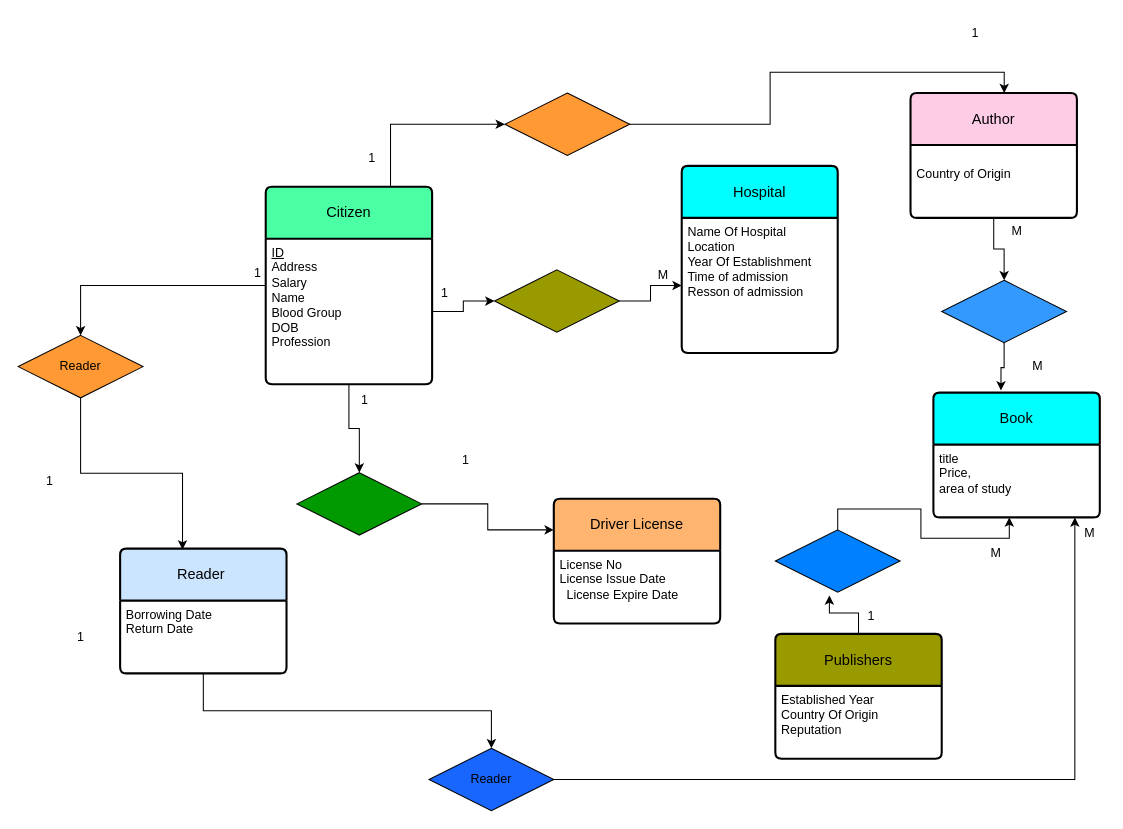
The diagram is 1123 pixels wide and 829 high, and some of its shapes have lost their labels. Each missing label, with the centre of its shape:
"Admission" belongs at [556,300].
"Book Owner" belongs at [1004,311].
"Have" belongs at [359,503].
"Occupation" belongs at [567,123].
"Publish" belongs at [837,560].
